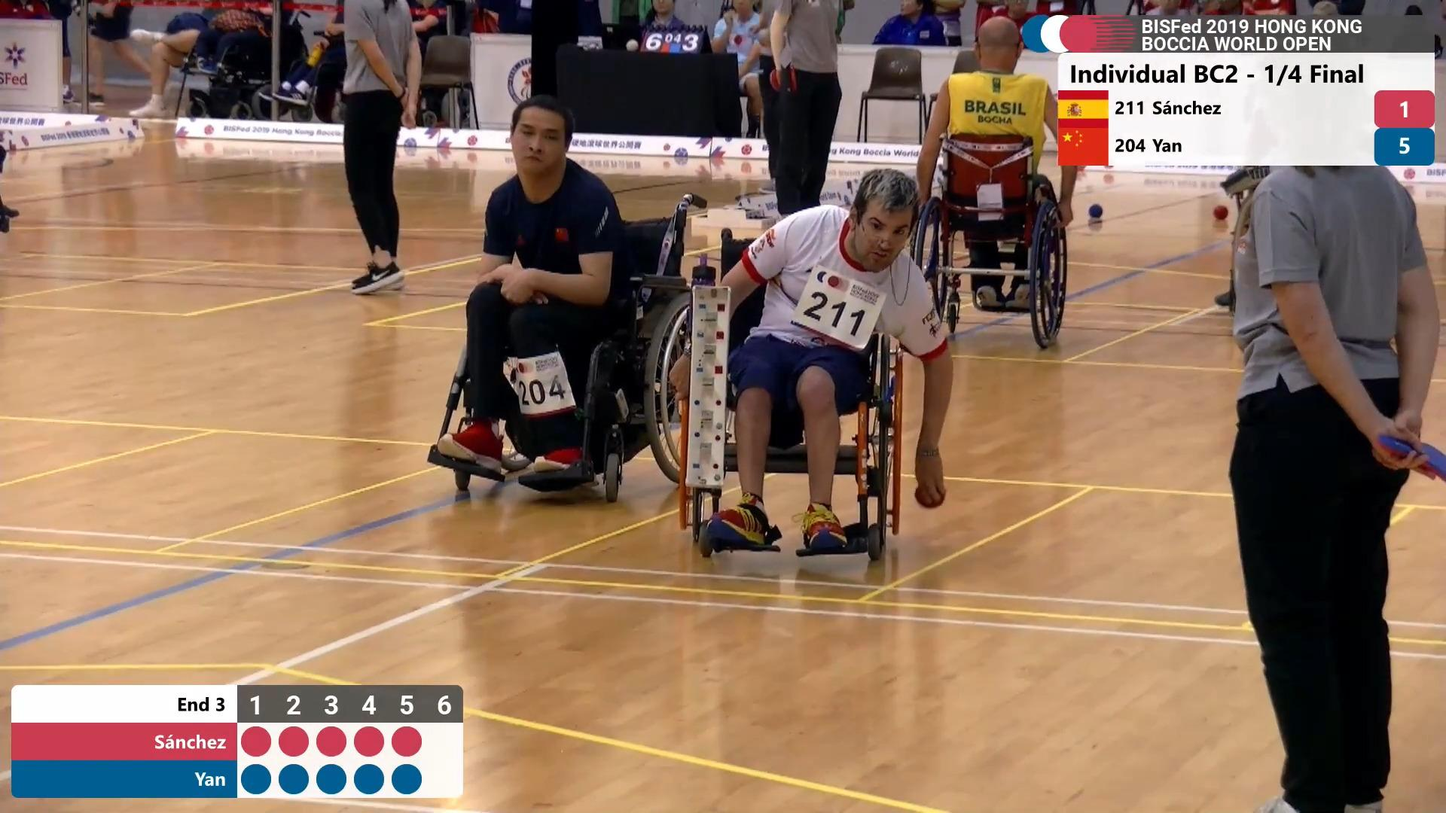blue_ball: (1089, 203, 1103, 219)
red_ball: (1213, 204, 1228, 220)
